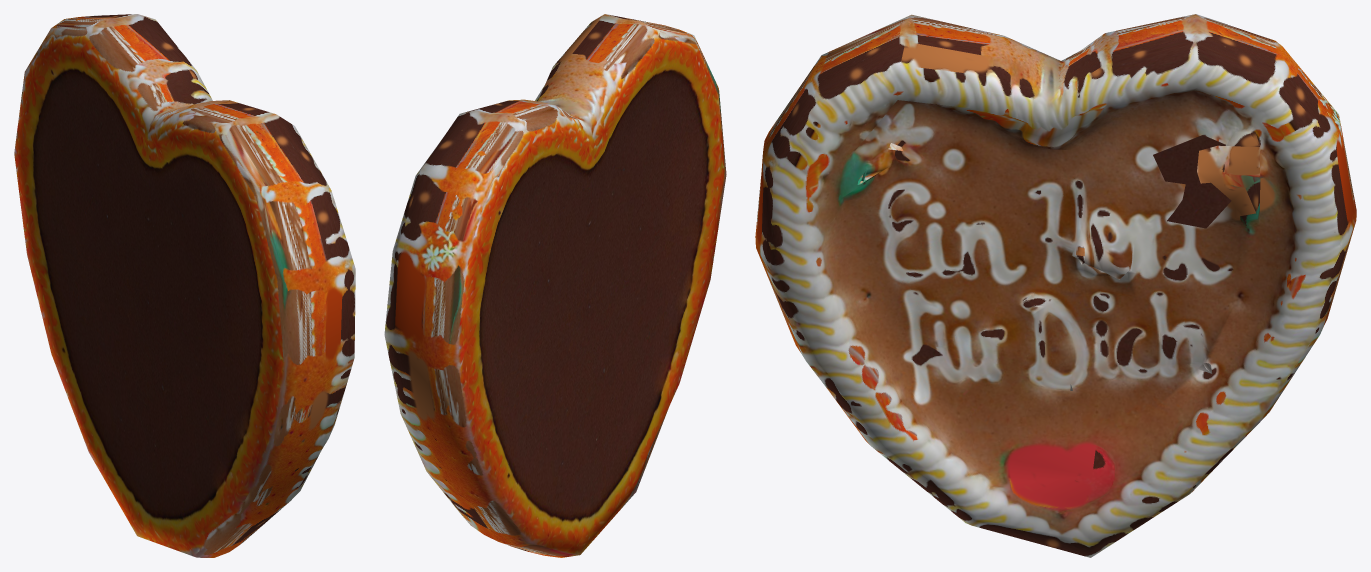
Rendered from lebkuchen.fbx.
3 renders of one model, left to right at view 1: azimuth 30°, elevation 25°; view 2: azimuth 150°, elevation 25°; view 3: azimuth 270°, elevation 25°, orthographic. The views are drawn at different scales.
Parts seen in each view (by area): view 1: RETOPO; view 2: RETOPO; view 3: RETOPO.
Part boxes in pixels (x1=…): RETOPO: x1=14, y1=14, x2=355, y2=557; RETOPO: x1=384, y1=14, x2=726, y2=557; RETOPO: x1=755, y1=14, x2=1356, y2=557.
Bounding box in the file's own units: 14.95 × 73.99 × 77.36.
1 material, 1 textured.
